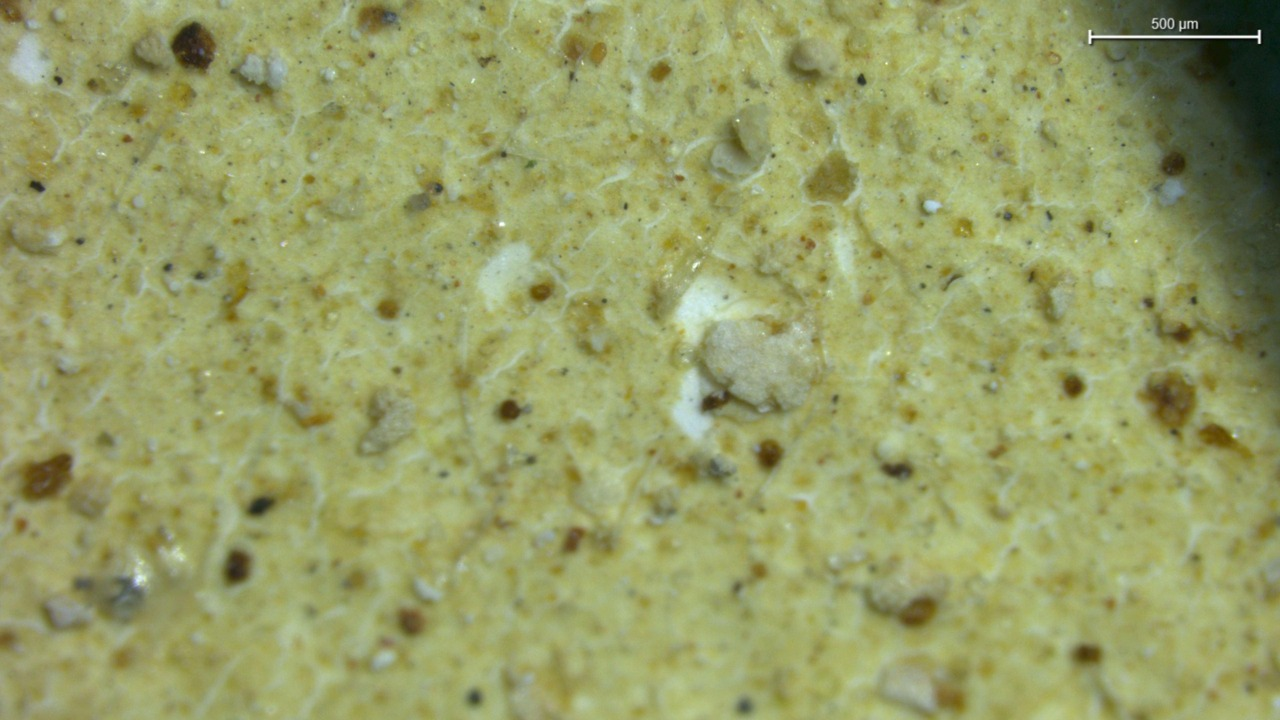microplastic_fragment: (699, 314, 820, 412), (706, 105, 776, 186), (358, 394, 414, 455), (238, 48, 284, 92), (791, 39, 837, 69)
